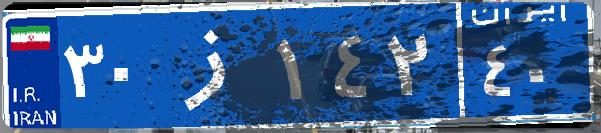0: (110, 28, 158, 105), (525, 38, 570, 115)
1: (273, 28, 330, 110)
2: (385, 28, 445, 110)
3: (57, 26, 110, 107)
4: (330, 28, 385, 110), (475, 38, 525, 113)
ز: (158, 15, 273, 115)
